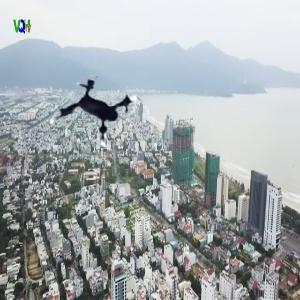drone: (43, 64, 152, 173)
